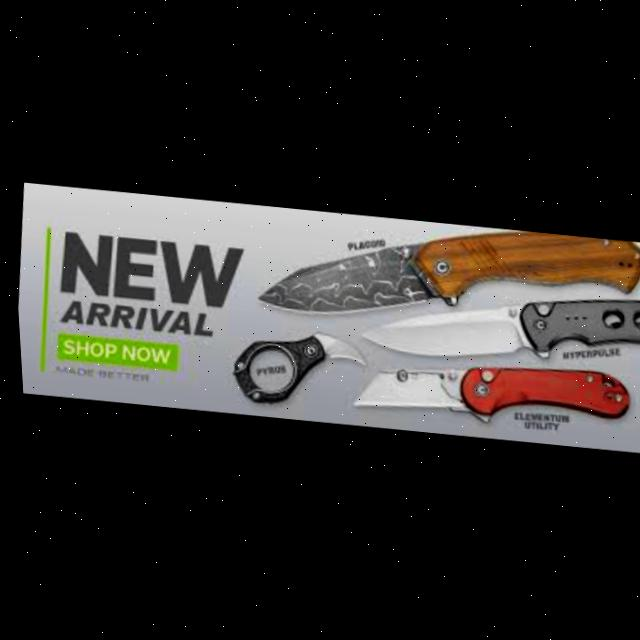Knife: (247, 202, 640, 346), (351, 268, 640, 379), (344, 345, 627, 436)
